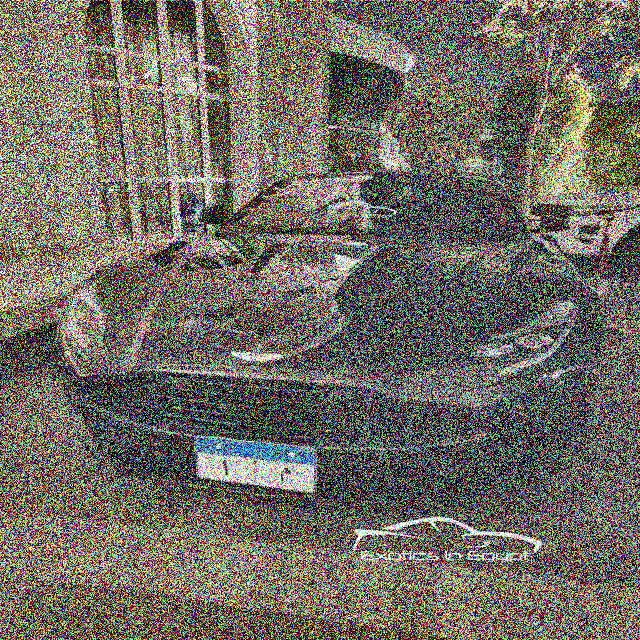License Plate: (190, 434, 319, 496)
